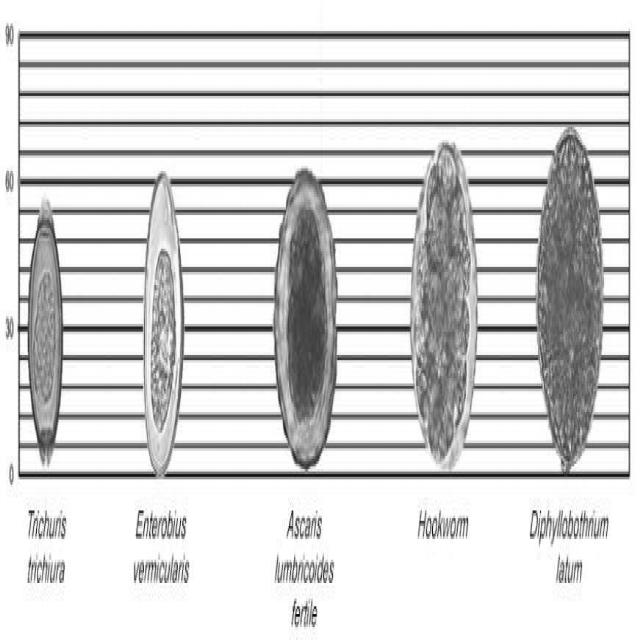Ancylostoma Spp: (406, 126, 482, 483)
Ascaris Lumbricoides: (265, 136, 343, 496)
Enterobius Vermicularis: (141, 161, 191, 487)
Trichuris Trichiura: (24, 169, 69, 487)
